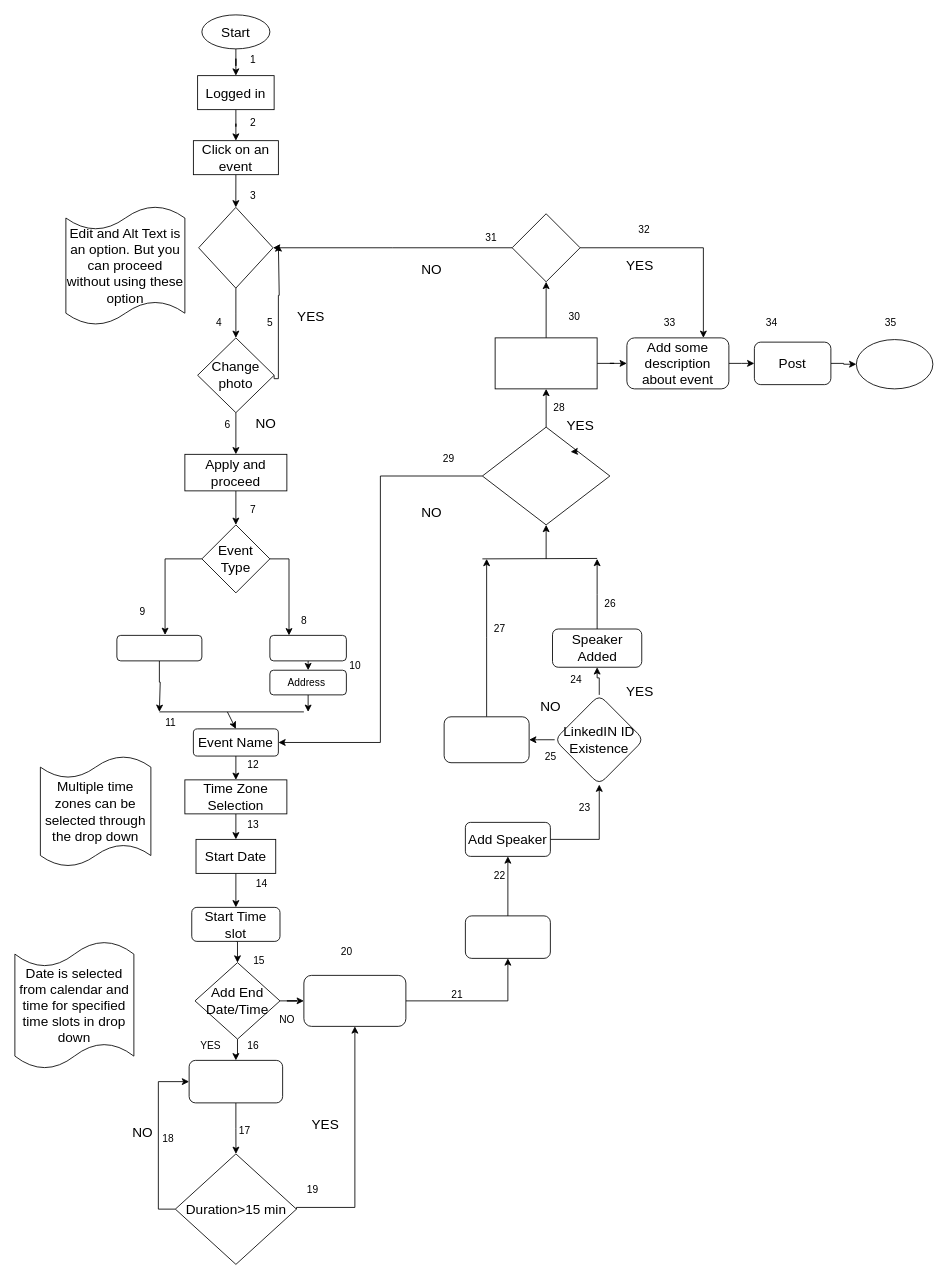
Image size: 948x1279. Some labels were removed from this diagram. Here are the shapes that lost their labels. From the top down, the centre of each, then its label:
At point (235, 247): "Upload Image".
At point (545, 247): "Edit".
At point (545, 363): "Proceed".
At point (894, 364): "End".
At point (546, 475): "Mandatory fields filled valid".
At point (159, 648): "Online".
At point (307, 648): "Onsite".
At point (486, 739): "Speaker is not added".
At point (507, 936): "Description".
At point (354, 1000): "External Event Link".
At point (235, 1081): "End Date/Time slot".
